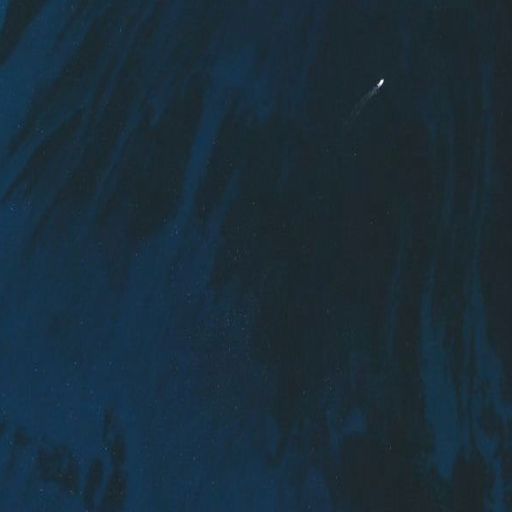ship: (375, 77, 386, 89)
